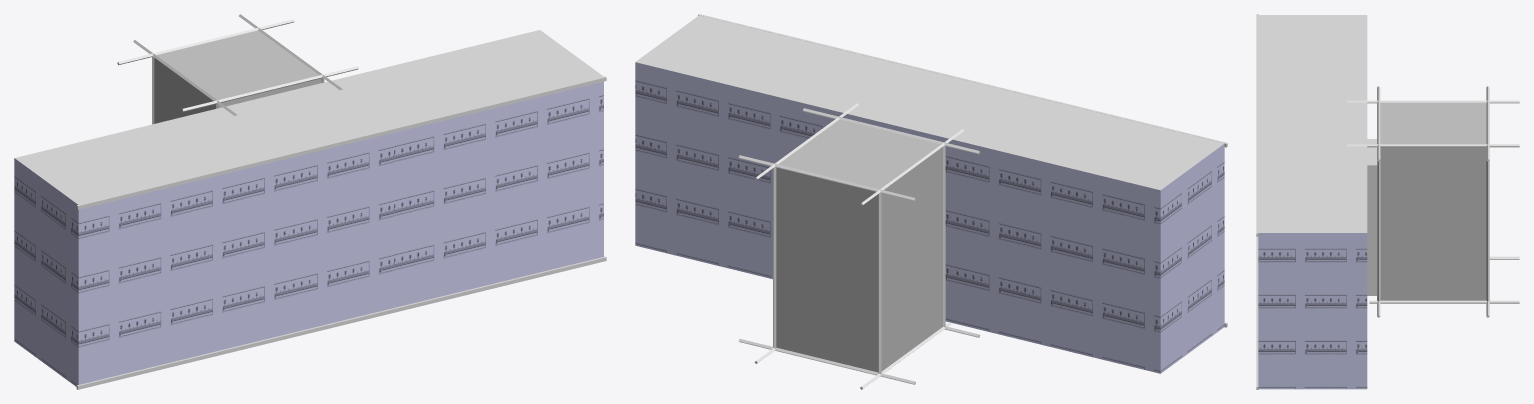
Rendered from SanityWard.fbx.
3 views of the same model, side by side, from view 1: azimuth 30°, elevation 25°; view 2: azimuth 150°, elevation 25°; view 3: azimuth 270°, elevation 25° (orthographic). The views are drawn at different scales.
Parts seen in each view (by area): view 1: Wc.001; view 2: Wc.001; view 3: Wc.001.
Boxes of the visible parts, box(x1,y1,x2,y2) form: Wc.001: box(14, 14, 606, 389); Wc.001: box(635, 14, 1227, 389); Wc.001: box(1256, 14, 1519, 389).
Bounding box in the file's own units: 904 × 307 × 458.
